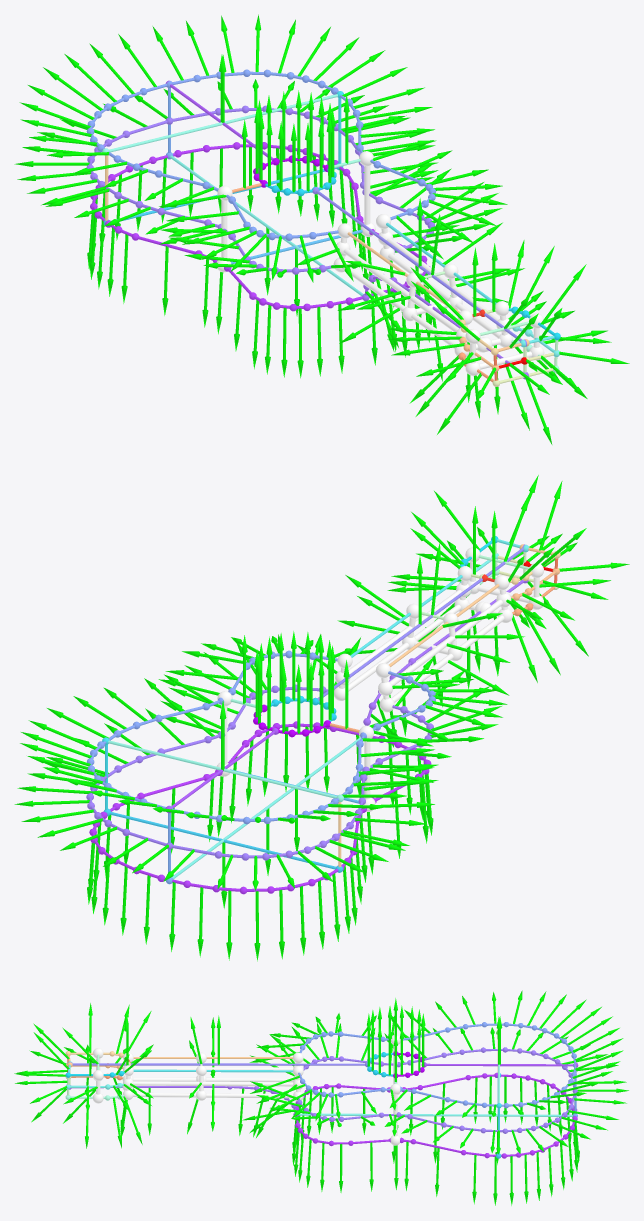
Rendered from t2f_guitar.gltf.
3 renders of one model, top to bottom at view 1: azimuth 30°, elevation 25°; view 2: azimuth 150°, elevation 25°; view 3: azimuth 270°, elevation 25°, orthographic. The views are drawn at different scales.
Size of the model in its own units: 0.5511 by 0.304 by 1.13.
